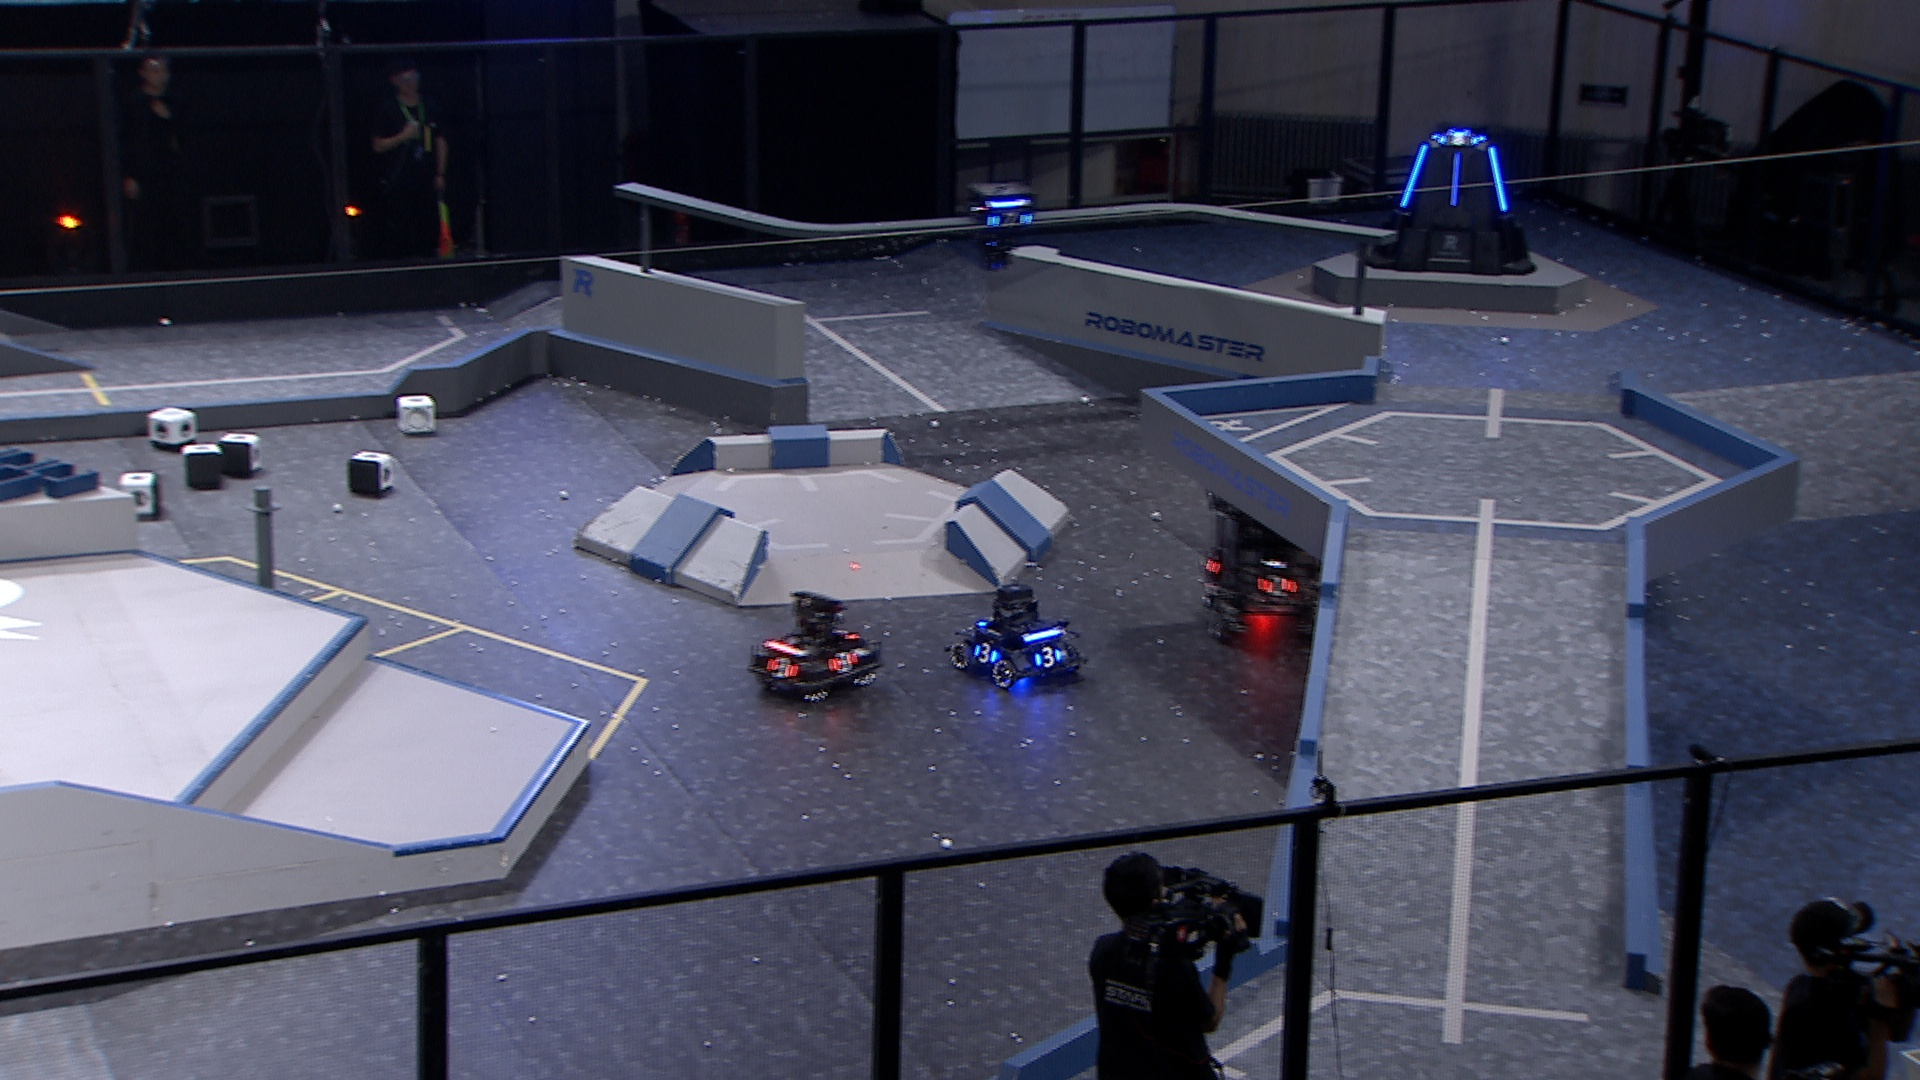armor: (1395, 142, 1429, 211), (1484, 144, 1510, 215), (1257, 574, 1300, 597), (1447, 152, 1465, 207), (988, 210, 1038, 228), (761, 655, 798, 680), (1033, 645, 1067, 669), (1437, 131, 1480, 149), (971, 637, 998, 665), (827, 650, 855, 673), (832, 622, 858, 640)
base: (1362, 127, 1538, 278)
car: (1195, 465, 1367, 645), (746, 588, 887, 705), (942, 583, 1087, 694)
watcher: (964, 181, 1040, 272)
